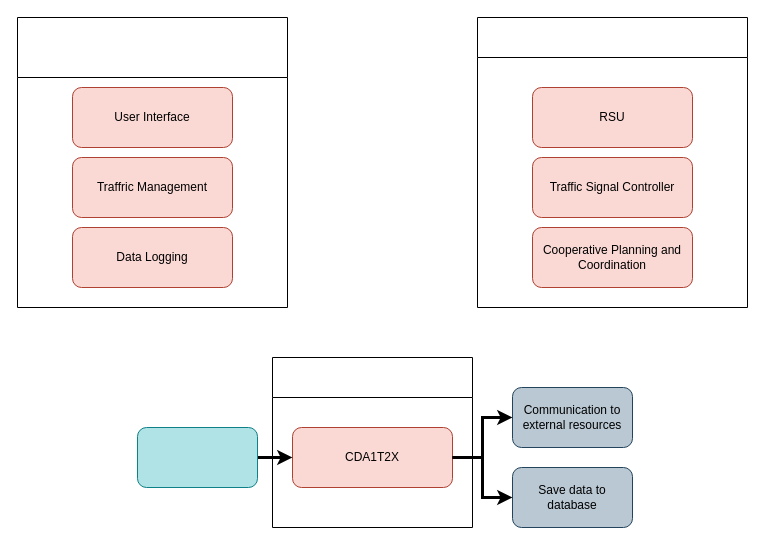
This 765x545 diagram has some shape labels left out. Each missing label, with the box of its shape:
1Tenth RSE: (476, 16, 748, 308)
1Tenth TMC Traffic Management Center - Central Computer/Laptop: (16, 16, 288, 308)
CDA1Tenth - Communications Base: (272, 356, 472, 528)
Rx or Tx: (136, 426, 258, 488)
